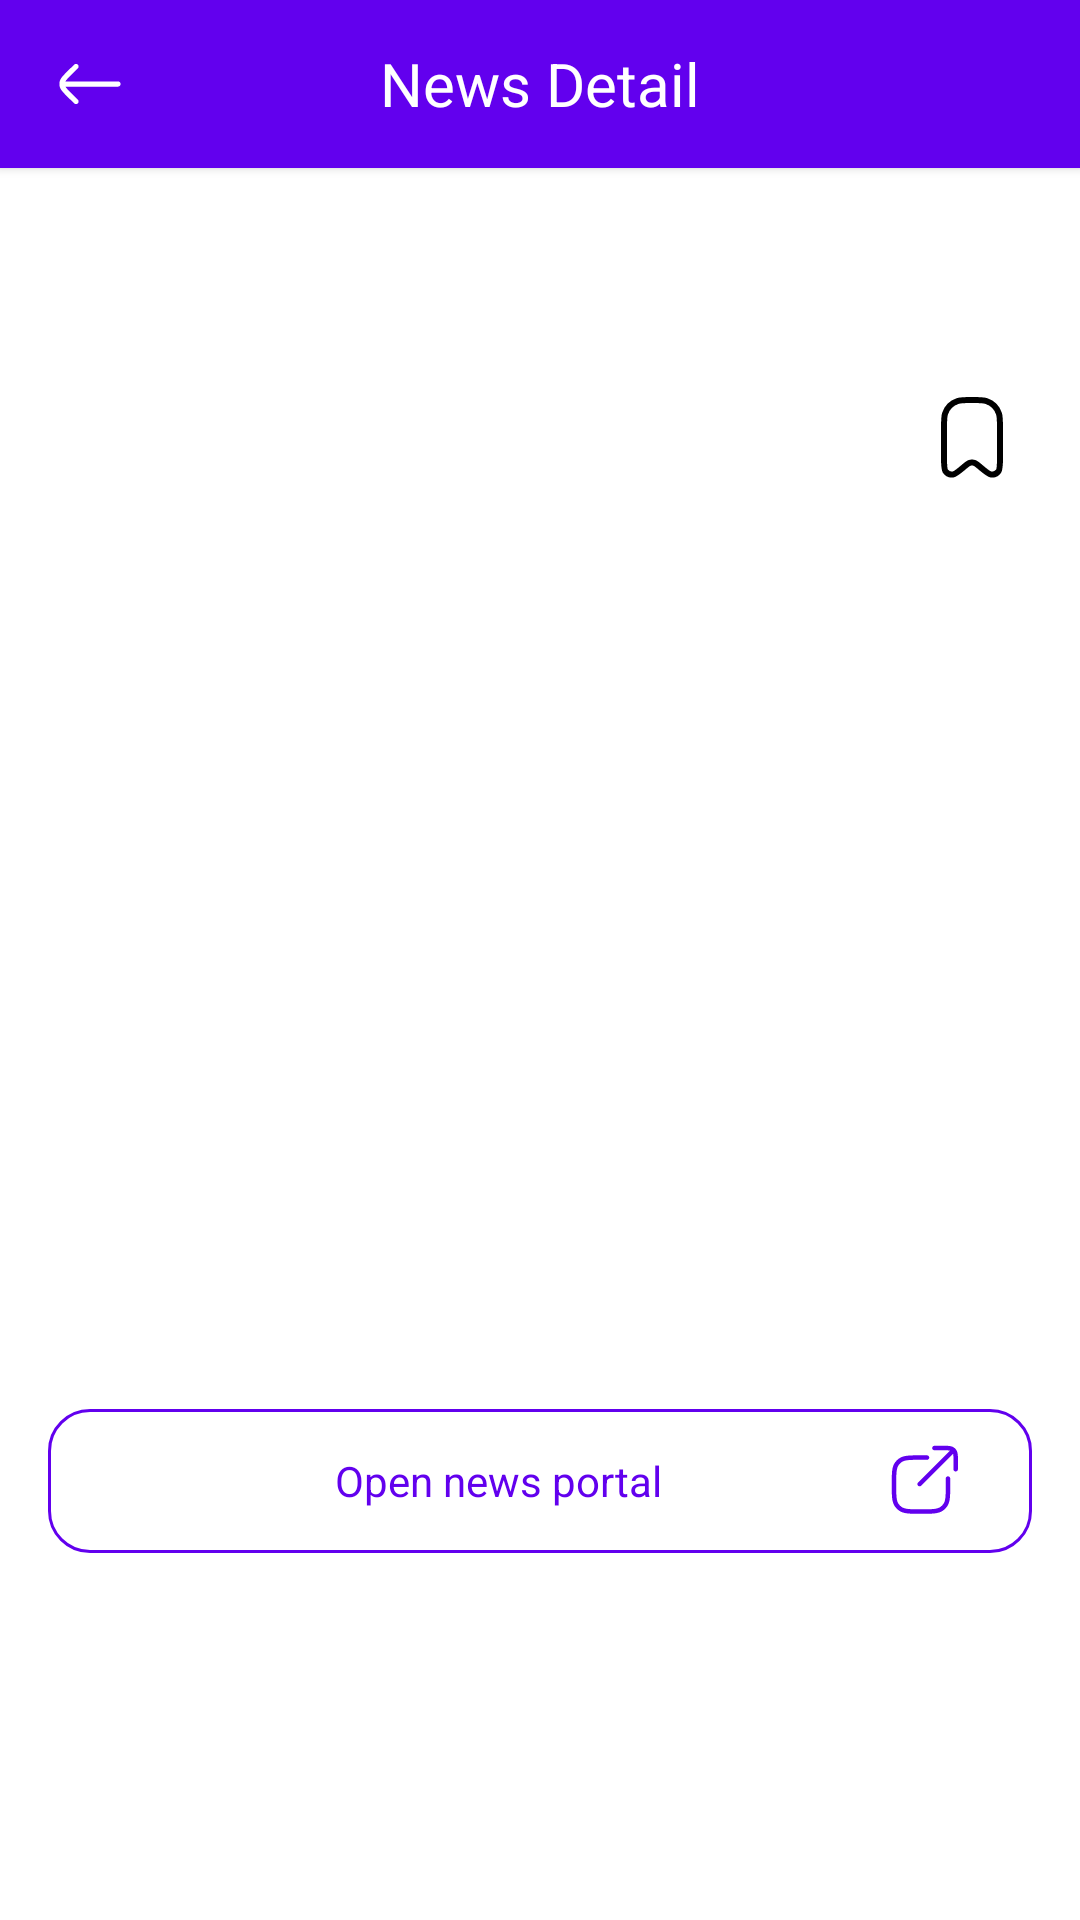

Where to tap for icons on this 1080px x 1920px app screen, as point (x, y):
arrow left: point (90, 84)
bookmark: point (972, 437)
